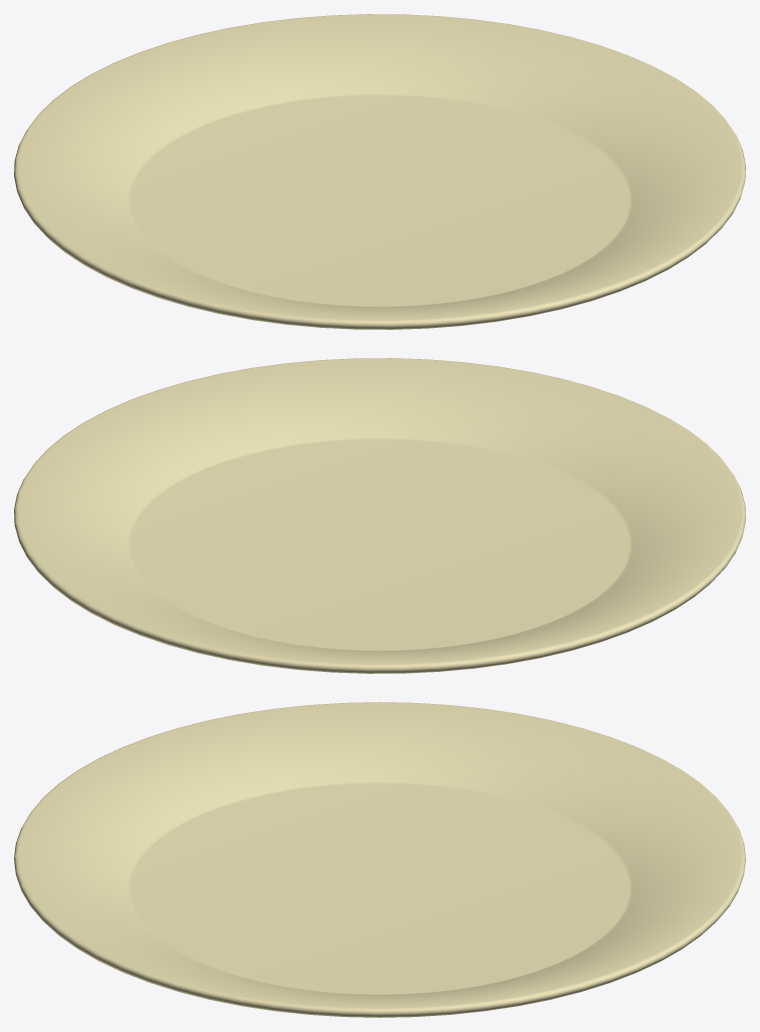
File: DinnerPlate.fbx
3 views of the same model, one above another, from view 1: azimuth 30°, elevation 25°; view 2: azimuth 150°, elevation 25°; view 3: azimuth 270°, elevation 25° (orthographic).
Parts seen in each view (by area): view 1: Cylinder; view 2: Cylinder; view 3: Cylinder.
Part boxes in pixels (bbox=[...]): Cylinder: bbox=[14, 14, 745, 329]; Cylinder: bbox=[14, 358, 745, 673]; Cylinder: bbox=[14, 702, 745, 1017].
Size of the model in its own units: 287 by 21.63 by 287.
